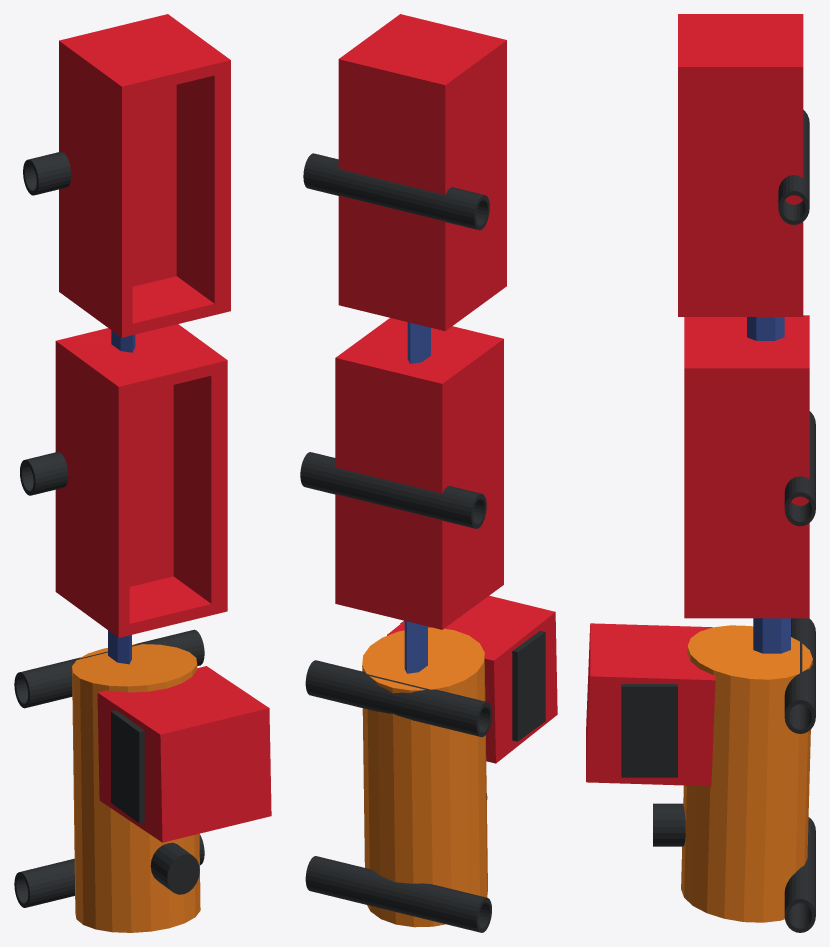
The model's file is tinker.obj.
3 views of the same model, side by side, from view 1: azimuth 30°, elevation 25°; view 2: azimuth 150°, elevation 25°; view 3: azimuth 270°, elevation 25° (orthographic). The views are drawn at different scales.
Parts seen in each view (by area): view 1: group_0_15277357, group_0_16089887, group_0_2829873, group_0_3888547; view 2: group_0_15277357, group_0_2829873, group_0_16089887, group_0_3888547; view 3: group_0_15277357, group_0_16089887, group_0_2829873, group_0_3888547.
Part boxes in pixels (box(x1,y1,x2,y2)): group_0_15277357: box(55, 14, 271, 842); group_0_16089887: box(72, 644, 200, 932); group_0_2829873: box(14, 151, 204, 907); group_0_3888547: box(108, 330, 135, 664); group_0_15277357: box(335, 14, 557, 763); group_0_2829873: box(300, 153, 545, 932); group_0_16089887: box(362, 627, 487, 927); group_0_3888547: box(404, 322, 430, 673); group_0_15277357: box(586, 14, 809, 786); group_0_16089887: box(681, 625, 812, 922); group_0_2829873: box(621, 110, 815, 932); group_0_3888547: box(747, 317, 790, 653).
Bounding box in the file's own units: 33 × 152 × 36.65.
